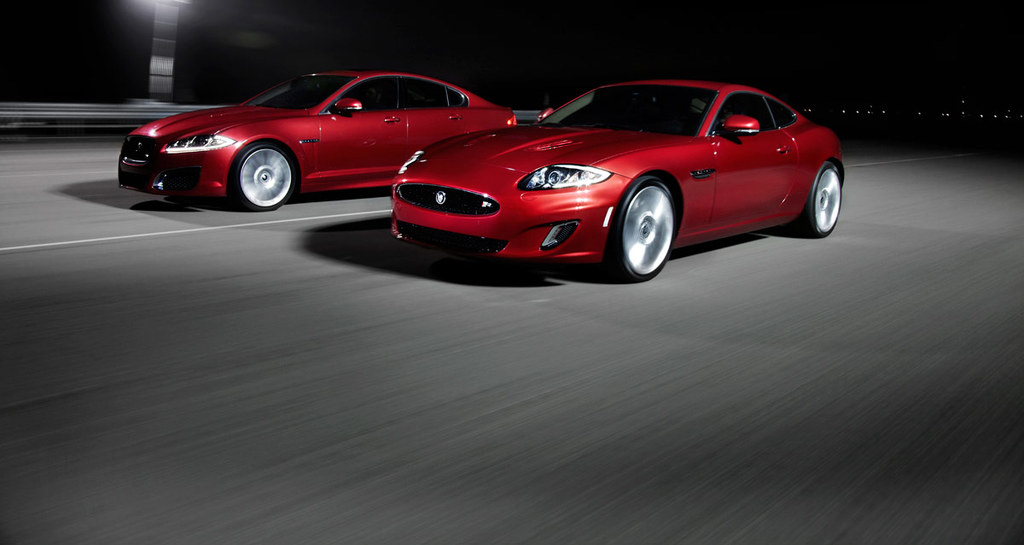Car: (388, 75, 845, 278), (118, 64, 508, 208)
